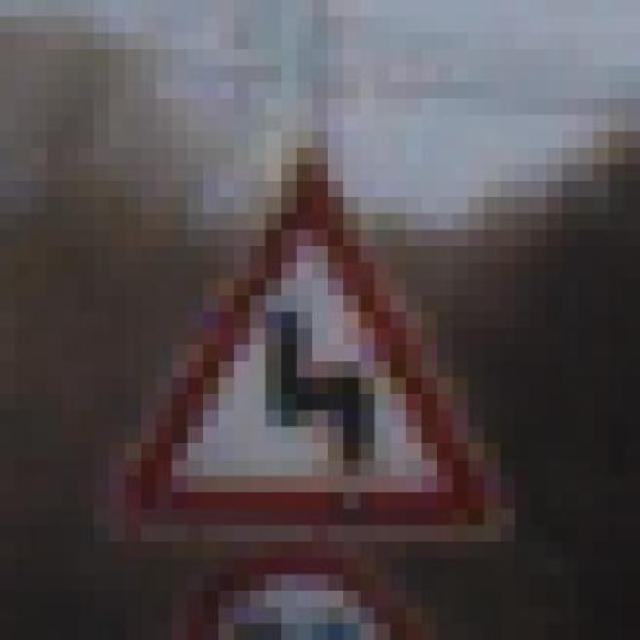Left Zig Zag Traffic: (94, 131, 531, 558)
